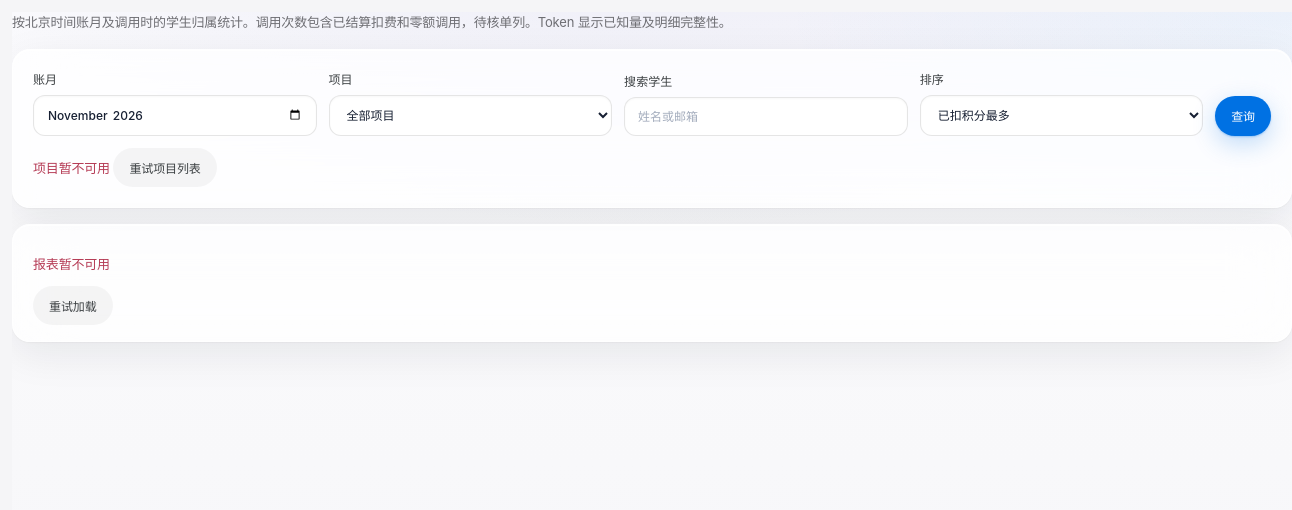
it: 学生列表与项目加载失败后各自可重试，空结果仍展示全校未确认流水
Expected: the message "报表暂不可用 重试加载" is shown, 33,256 -> 112,325
Expected: the message "项目暂不可用 重试项目列表" is shown, 33,148 -> 217,187
Click the button "重试项目列表". click: (165, 167)
box: 113,148 -> 217,187
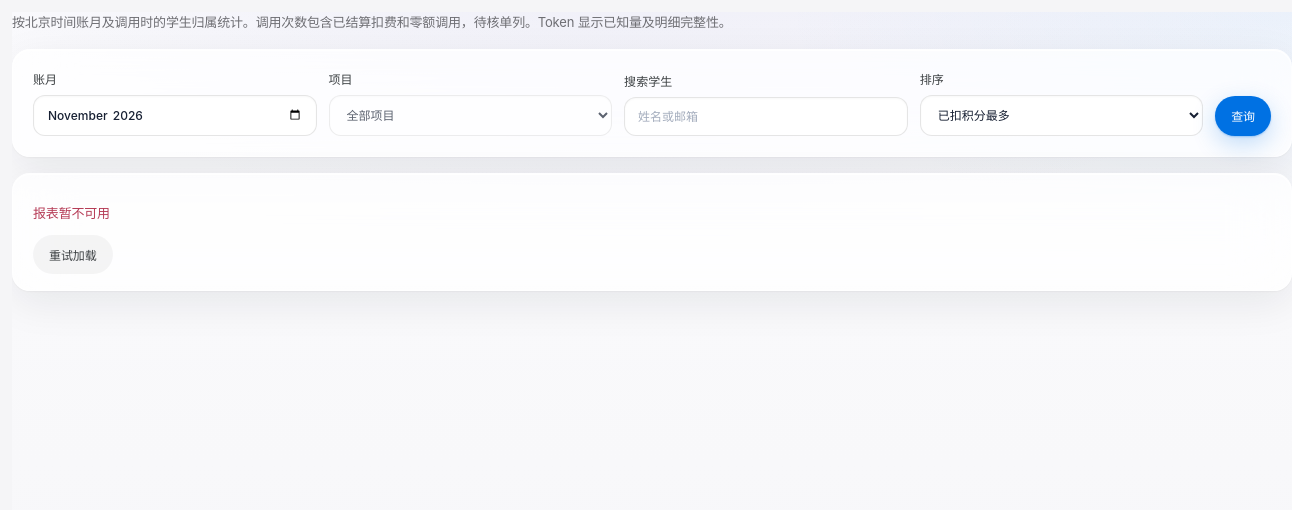
Click the button "重试加载". click: (73, 254)
box: 33,235 -> 112,274
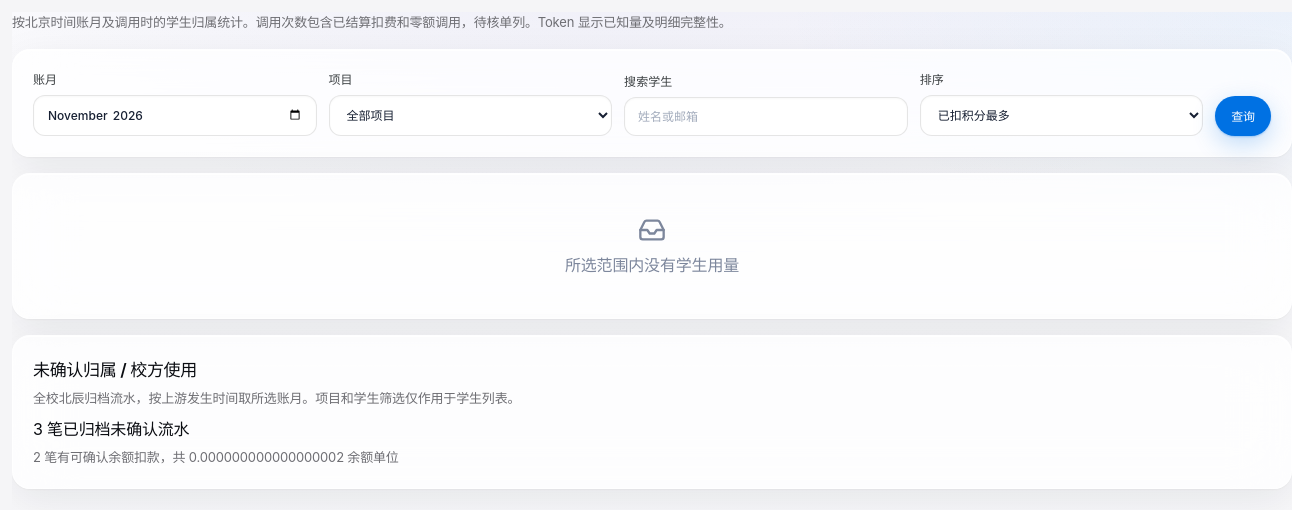
Now the element with class "report-panel" reads "所选范围内没有学生用量", box 565,255 -> 739,275
Now the element with class "upstream-summary" shows "3 笔已归档未确认流水", box 33,419 -> 190,439
